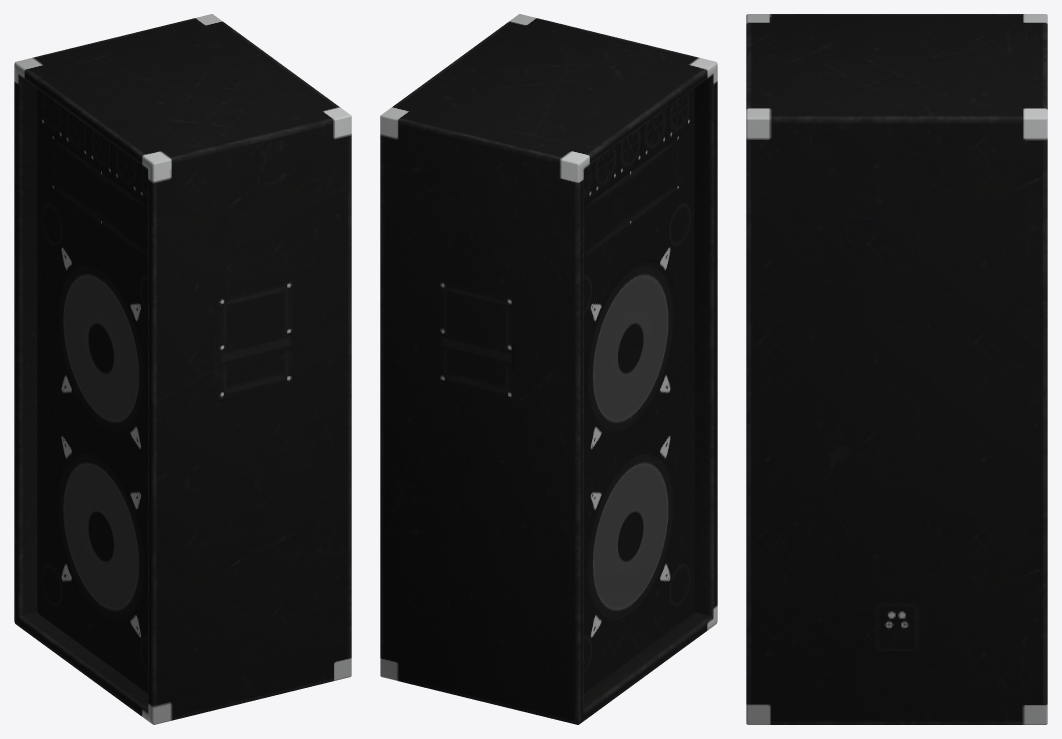
File: Prop_Speaker_Large.fbx
3 views of the same model, side by side, from view 1: azimuth 30°, elevation 25°; view 2: azimuth 150°, elevation 25°; view 3: azimuth 270°, elevation 25° (orthographic). The views are drawn at different scales.
Visible parts, largest first — view 1: Prop_Speaker_Large; view 2: Prop_Speaker_Large; view 3: Prop_Speaker_Large.
Part boxes in pixels (<box>): Prop_Speaker_Large: <box>14,14,351,724</box>; Prop_Speaker_Large: <box>380,14,717,724</box>; Prop_Speaker_Large: <box>746,14,1047,724</box>.
Bounding box in the file's own units: 23.28 × 62.79 × 28.25.
